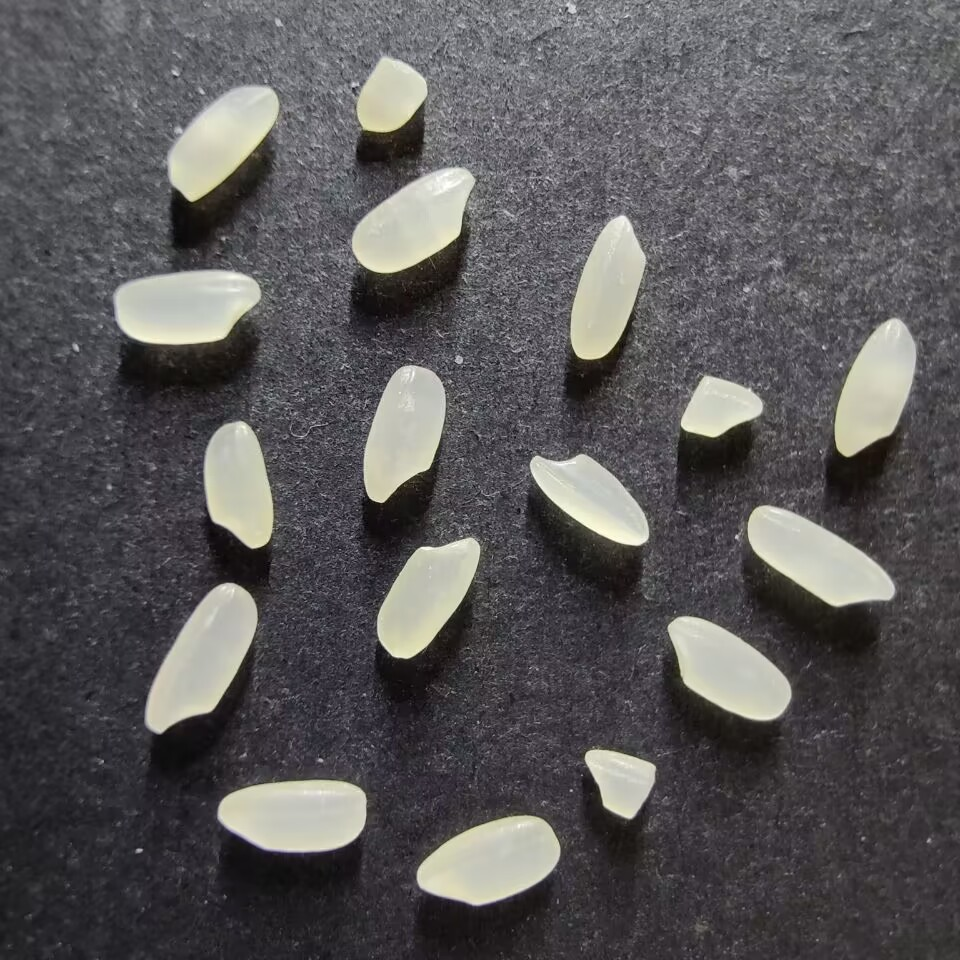broken: (356, 56, 428, 133), (679, 375, 763, 438), (583, 749, 656, 820)
rice: (144, 582, 258, 733), (746, 505, 894, 607), (351, 167, 475, 274), (167, 84, 279, 202), (667, 616, 791, 721), (416, 815, 561, 904), (375, 537, 480, 658), (833, 318, 916, 459), (362, 364, 445, 503), (113, 269, 260, 345), (569, 215, 646, 360), (529, 453, 649, 545), (216, 779, 366, 852), (203, 421, 272, 549)
